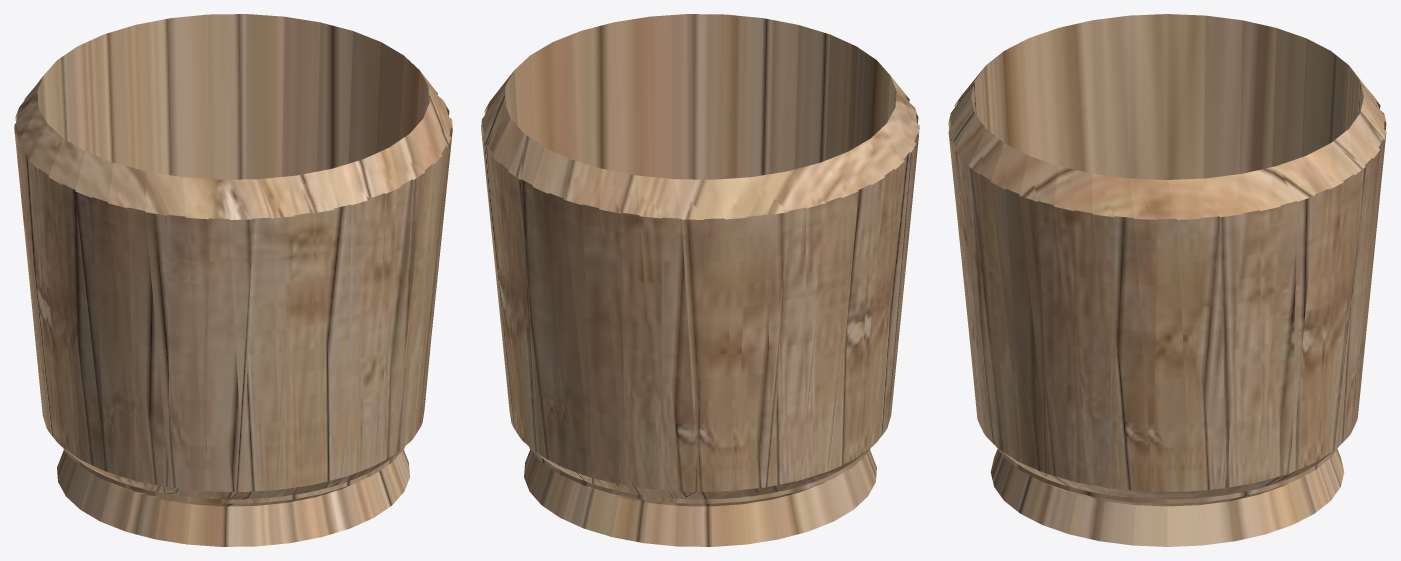
File: boks.fbx
3 views of the same model, side by side, from view 1: azimuth 30°, elevation 25°; view 2: azimuth 150°, elevation 25°; view 3: azimuth 270°, elevation 25° (orthographic).
Visible parts, largest first — view 1: Cylinder; view 2: Cylinder; view 3: Cylinder.
Boxes of the visible parts, left/top/right/bottom form: Cylinder: left=14, top=14, right=452, bottom=546; Cylinder: left=481, top=14, right=919, bottom=546; Cylinder: left=948, top=14, right=1386, bottom=546.
Bounding box in the file's own units: 98.89 × 93.47 × 98.89.
1 material, 1 textured.
